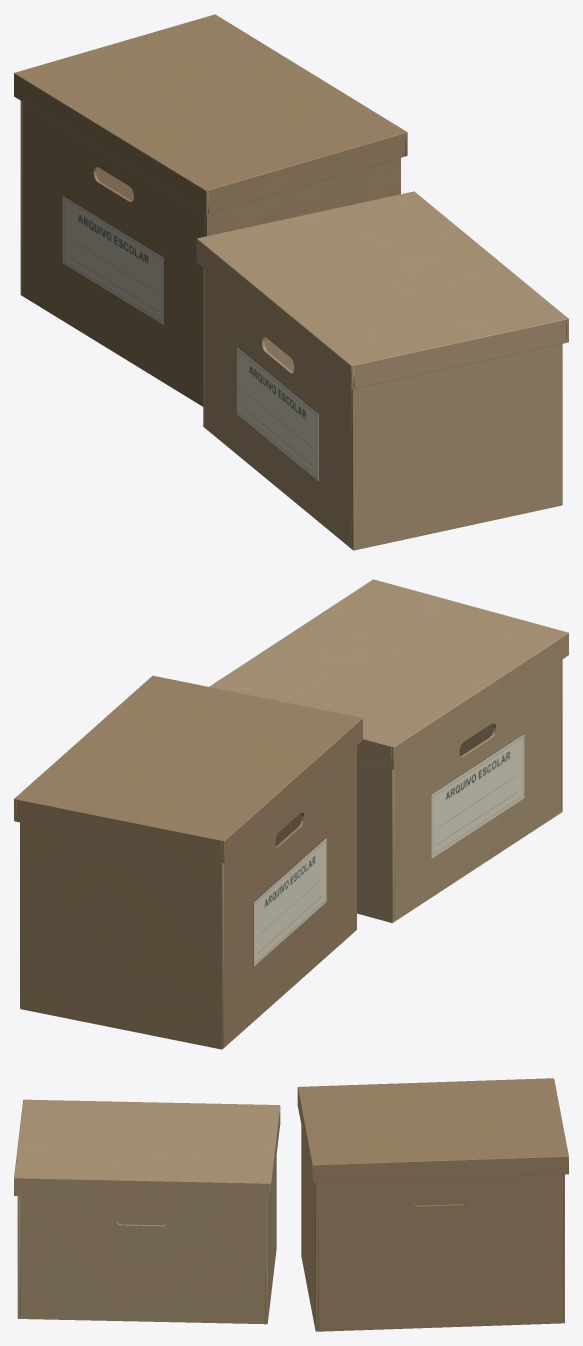
The model's file is caixas_arquivo_realista.glb.
The picture shows the model from 3 angles, top to bottom: view 1: azimuth 30°, elevation 25°; view 2: azimuth 150°, elevation 25°; view 3: azimuth 270°, elevation 25°; orthographic projection. The views are drawn at different scales.
Visible parts, largest first — view 1: Direcao_Armario_Caixa_Arquivo.003, Direcao_Armario_Caixa_Arquivo.002; view 2: Direcao_Armario_Caixa_Arquivo.002, Direcao_Armario_Caixa_Arquivo.003; view 3: Direcao_Armario_Caixa_Arquivo.002, Direcao_Armario_Caixa_Arquivo.003.
Boxes of the visible parts, x1,y1,x2,y2 form: Direcao_Armario_Caixa_Arquivo.003: (196, 191, 568, 550); Direcao_Armario_Caixa_Arquivo.002: (14, 14, 407, 406); Direcao_Armario_Caixa_Arquivo.002: (14, 675, 362, 1049); Direcao_Armario_Caixa_Arquivo.003: (209, 579, 568, 923); Direcao_Armario_Caixa_Arquivo.002: (297, 1078, 568, 1331); Direcao_Armario_Caixa_Arquivo.003: (14, 1099, 280, 1324).
Size of the model in its own units: 0.3027 by 0.26 by 0.776.
Materials: 1 (1 with a texture image).
